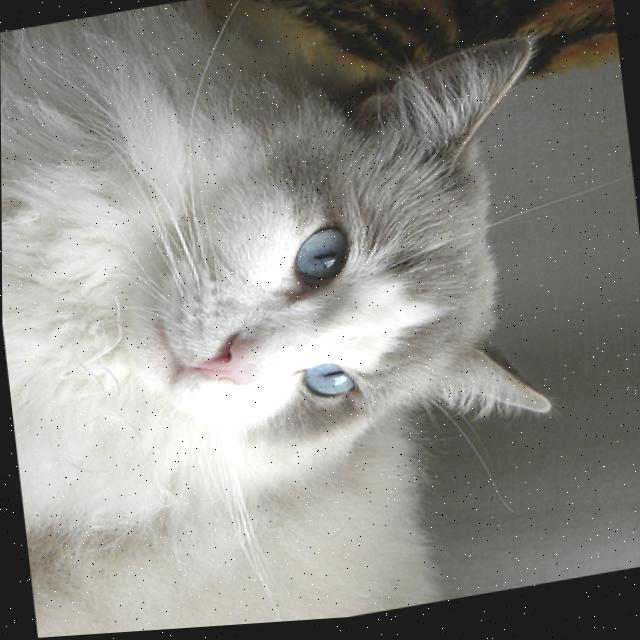Ragdoll: (0, 0, 599, 640)
